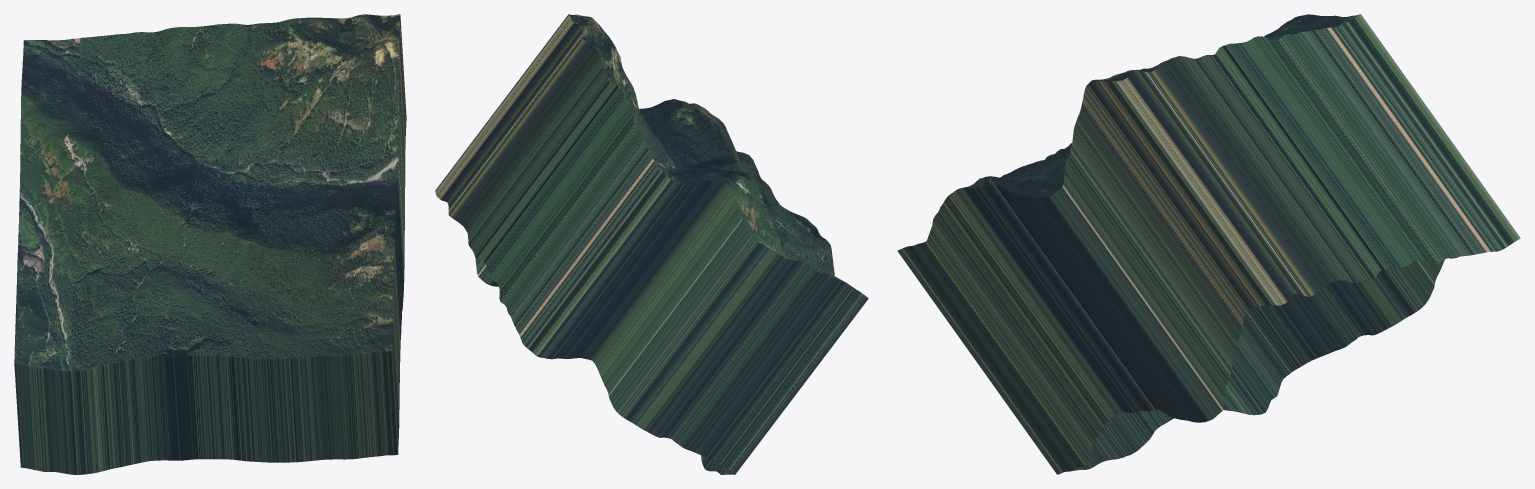
3 views of the same model, side by side, from view 1: azimuth 30°, elevation 25°; view 2: azimuth 150°, elevation 25°; view 3: azimuth 270°, elevation 25° (orthographic). The views are drawn at different scales.
Bounding box in the file's own units: 5837 × 5432 × 6789.
1 material, 1 textured.
